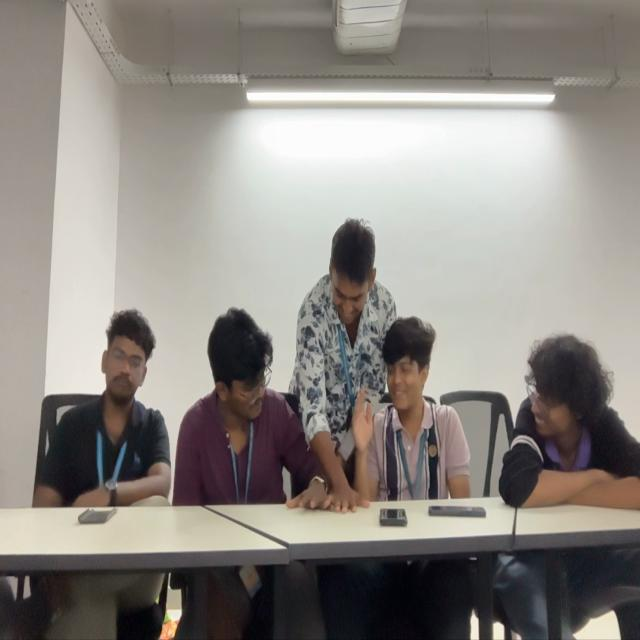Isolated: (30, 305, 170, 506), (501, 330, 640, 510)
socializing: (175, 218, 473, 498)
